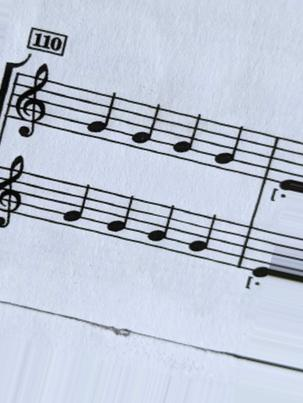note: (81, 87, 119, 146), (170, 108, 203, 167), (130, 100, 163, 154), (60, 179, 93, 232), (103, 191, 136, 243), (144, 199, 176, 252), (214, 121, 244, 176), (187, 211, 217, 263)
